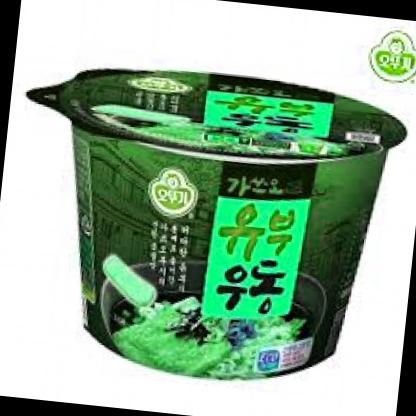Ramen: (15, 52, 415, 387)
